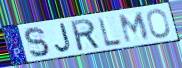J: (54, 22, 73, 53)
L: (96, 15, 123, 48)
M: (119, 11, 151, 45)
O: (146, 8, 172, 40)
R: (69, 18, 102, 53)
S: (23, 26, 51, 59)
